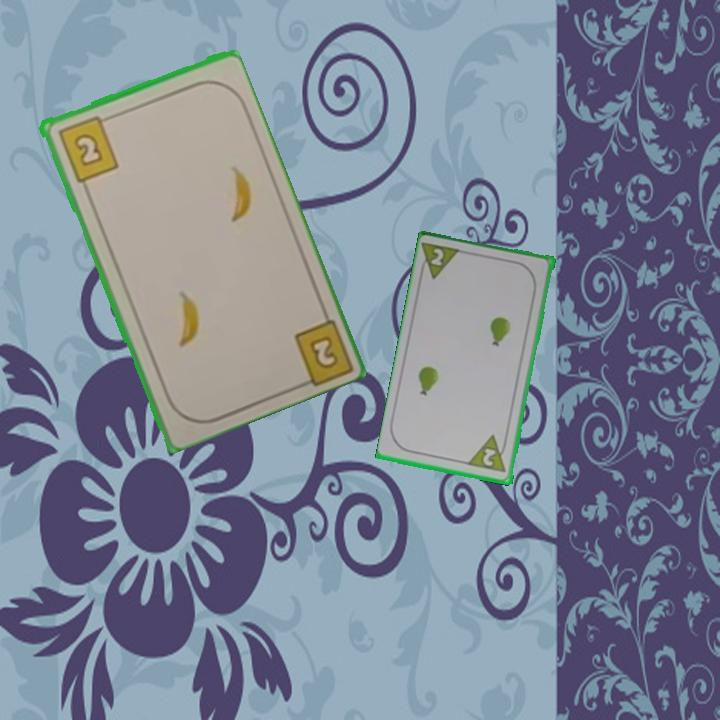2b: (54, 111, 121, 185), (305, 331, 341, 372)
2p: (416, 239, 465, 283), (466, 432, 511, 476)
